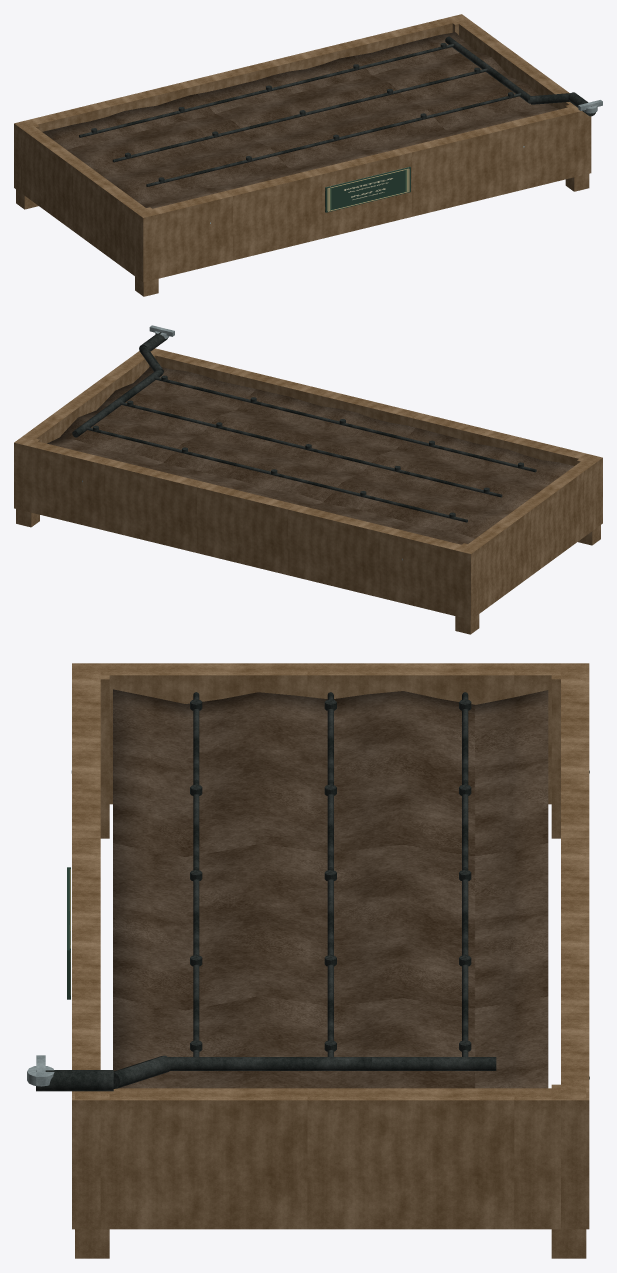
The model's file is PZ_Garden_Fresh_Tilled.glb.
3 renders of one model, top to bottom at view 1: azimuth 30°, elevation 25°; view 2: azimuth 150°, elevation 25°; view 3: azimuth 270°, elevation 25°, orthographic. The views are drawn at different scales.
Visible parts, largest first — view 1: SM_FRESH_TILLED_SOIL_FRESH_NODE, SM_FRESH_TILLED_FRAME_FRONT_NODE, SM_FRESH_TILLED_FRAME_LEFT_NODE, SM_FRESH_TILLED_FRAME_REAR_NODE, SM_FRESH_TILLED_FRAME_RIGHT_NODE, SM_FRESH_TILLED_ROOKFIELD_ALLOTMENT_TAG_NODE, SM_FRESH_TILLED_DRIP_LINE_ROW_3_NODE, SM_FRESH_TILLED_DRIP_LINE_ROW_2_NODE, SM_FRESH_TILLED_DRIP_LINE_ROW_1_NODE, SM_FRESH_TILLED_IRRIGATION_MANIFOLD_NODE, SM_FRESH_TILLED_CORNER_POST_-0.961_-0.461_NODE; view 2: SM_FRESH_TILLED_SOIL_FRESH_NODE, SM_FRESH_TILLED_FRAME_REAR_NODE, SM_FRESH_TILLED_FRAME_LEFT_NODE, SM_FRESH_TILLED_FRAME_FRONT_NODE, SM_FRESH_TILLED_FRAME_RIGHT_NODE, SM_FRESH_TILLED_DRIP_LINE_ROW_2_NODE, SM_FRESH_TILLED_DRIP_LINE_ROW_3_NODE, SM_FRESH_TILLED_DRIP_LINE_ROW_1_NODE, SM_FRESH_TILLED_IRRIGATION_MANIFOLD_NODE; view 3: SM_FRESH_TILLED_SOIL_FRESH_NODE, SM_FRESH_TILLED_FRAME_RIGHT_NODE, SM_FRESH_TILLED_FRAME_LEFT_NODE, SM_FRESH_TILLED_FRAME_REAR_NODE, SM_FRESH_TILLED_FRAME_FRONT_NODE, SM_FRESH_TILLED_IRRIGATION_MANIFOLD_NODE, SM_FRESH_TILLED_DRIP_LINE_ROW_2_NODE, SM_FRESH_TILLED_DRIP_LINE_ROW_1_NODE, SM_FRESH_TILLED_DRIP_LINE_ROW_3_NODE, SM_FRESH_TILLED_CORNER_POST_-0.961_0.461_NODE, SM_FRESH_TILLED_CORNER_POST_-0.961_-0.461_NODE, SM_FRESH_TILLED_CORNER_POST_0.961_0.461_NODE (+3 smaller).
Boxes of the visible parts, <box> form: SM_FRESH_TILLED_SOIL_FRESH_NODE: <box>42,32,559,208</box>; SM_FRESH_TILLED_FRAME_FRONT_NODE: <box>136,106,591,282</box>; SM_FRESH_TILLED_FRAME_LEFT_NODE: <box>21,125,146,276</box>; SM_FRESH_TILLED_FRAME_REAR_NODE: <box>14,14,468,192</box>; SM_FRESH_TILLED_FRAME_RIGHT_NODE: <box>457,19,574,109</box>; SM_FRESH_TILLED_ROOKFIELD_ALLOTMENT_TAG_NODE: <box>325,166,410,212</box>; SM_FRESH_TILLED_DRIP_LINE_ROW_3_NODE: <box>79,43,453,137</box>; SM_FRESH_TILLED_DRIP_LINE_ROW_2_NODE: <box>112,68,487,162</box>; SM_FRESH_TILLED_DRIP_LINE_ROW_1_NODE: <box>146,93,521,186</box>; SM_FRESH_TILLED_IRRIGATION_MANIFOLD_NODE: <box>445,36,530,103</box>; SM_FRESH_TILLED_CORNER_POST_-0.961_-0.461_NODE: <box>135,207,158,296</box>; SM_FRESH_TILLED_SOIL_FRESH_NODE: <box>47,366,574,544</box>; SM_FRESH_TILLED_FRAME_REAR_NODE: <box>14,437,478,619</box>; SM_FRESH_TILLED_FRAME_LEFT_NODE: <box>466,461,595,614</box>; SM_FRESH_TILLED_FRAME_FRONT_NODE: <box>139,348,602,528</box>; SM_FRESH_TILLED_FRAME_RIGHT_NODE: <box>21,351,148,443</box>; SM_FRESH_TILLED_DRIP_LINE_ROW_2_NODE: <box>119,401,502,497</box>; SM_FRESH_TILLED_DRIP_LINE_ROW_3_NODE: <box>85,426,467,522</box>; SM_FRESH_TILLED_DRIP_LINE_ROW_1_NODE: <box>154,376,536,472</box>; SM_FRESH_TILLED_IRRIGATION_MANIFOLD_NODE: <box>72,369,162,437</box>; SM_FRESH_TILLED_SOIL_FRESH_NODE: <box>113,689,548,1088</box>; SM_FRESH_TILLED_FRAME_RIGHT_NODE: <box>100,1088,560,1229</box>; SM_FRESH_TILLED_FRAME_LEFT_NODE: <box>100,663,560,804</box>; SM_FRESH_TILLED_FRAME_REAR_NODE: <box>561,663,589,1229</box>; SM_FRESH_TILLED_FRAME_FRONT_NODE: <box>72,663,100,1229</box>; SM_FRESH_TILLED_IRRIGATION_MANIFOLD_NODE: <box>168,1057,496,1070</box>; SM_FRESH_TILLED_DRIP_LINE_ROW_2_NODE: <box>327,692,333,1056</box>; SM_FRESH_TILLED_DRIP_LINE_ROW_1_NODE: <box>193,692,199,1056</box>; SM_FRESH_TILLED_DRIP_LINE_ROW_3_NODE: <box>462,692,468,1056</box>; SM_FRESH_TILLED_CORNER_POST_-0.961_0.461_NODE: <box>551,665,584,838</box>; SM_FRESH_TILLED_CORNER_POST_-0.961_-0.461_NODE: <box>76,665,109,838</box>; SM_FRESH_TILLED_CORNER_POST_0.961_0.461_NODE: <box>551,1084,586,1258</box>.
Size of the model in its own units: 2.01 by 0.396 by 1.09.
Materials: 5 (5 with a texture image).
